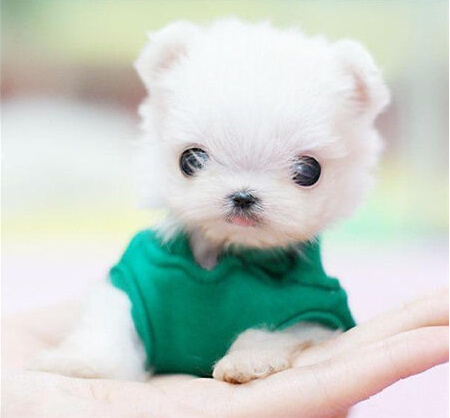dog: (133, 23, 401, 250)
